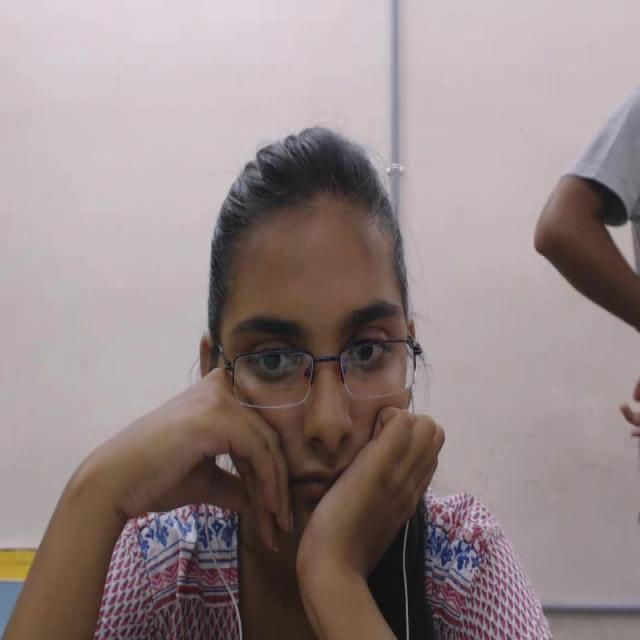Bored: (184, 115, 454, 550)
